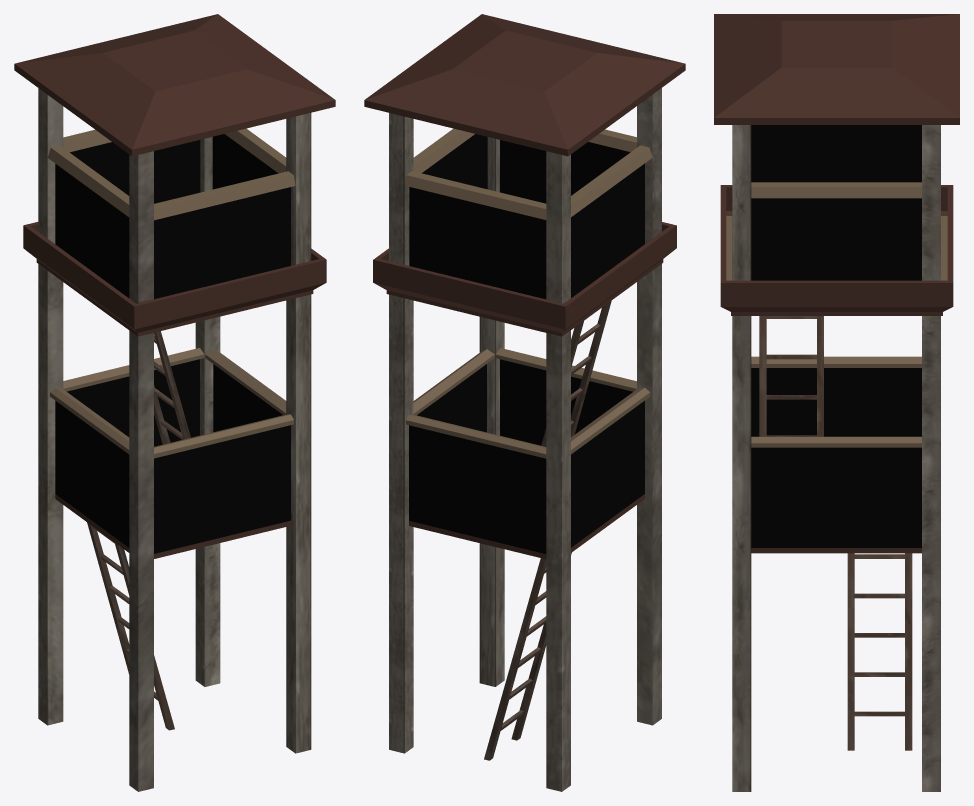
File: bridge-lookout.lod1.glb
3 views of the same model, side by side, from view 1: azimuth 30°, elevation 25°; view 2: azimuth 150°, elevation 25°; view 3: azimuth 270°, elevation 25° (orthographic). The views are drawn at different scales.
Visible parts, largest first — view 1: Object_6, Object_4, Object_8; view 2: Object_6, Object_4, Object_8; view 3: Object_6, Object_4, Object_8.
Boxes of the visible parts, x1,y1,x2,y2 form: Object_6: (14, 14, 335, 558); Object_4: (38, 88, 311, 791); Object_8: (87, 331, 190, 730); Object_6: (364, 14, 685, 559); Object_4: (389, 88, 661, 791); Object_8: (484, 301, 611, 760); Object_6: (714, 14, 959, 553); Object_4: (732, 125, 940, 791); Object_8: (759, 316, 912, 750).
Bounding box in the file's own units: 2.19 × 6.91 × 2.19.
3 materials, 2 textured.
